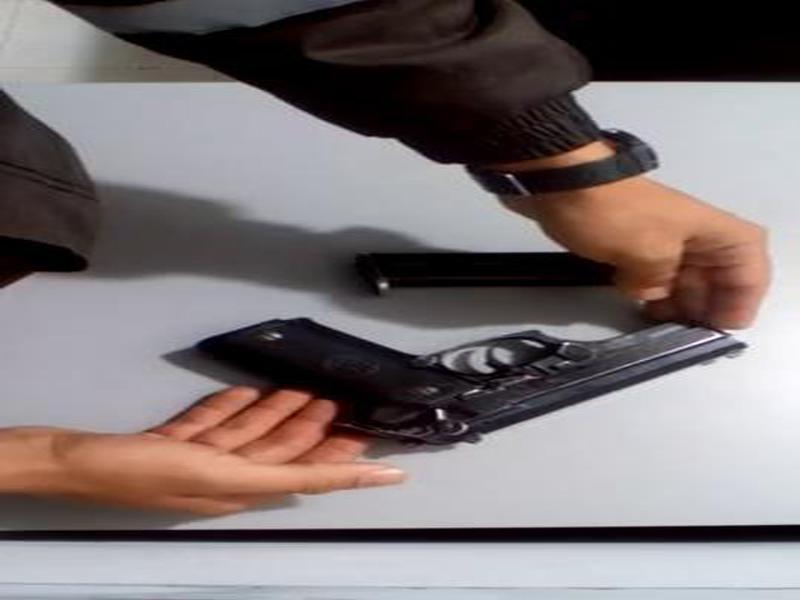Pistola: (179, 288, 750, 439)
